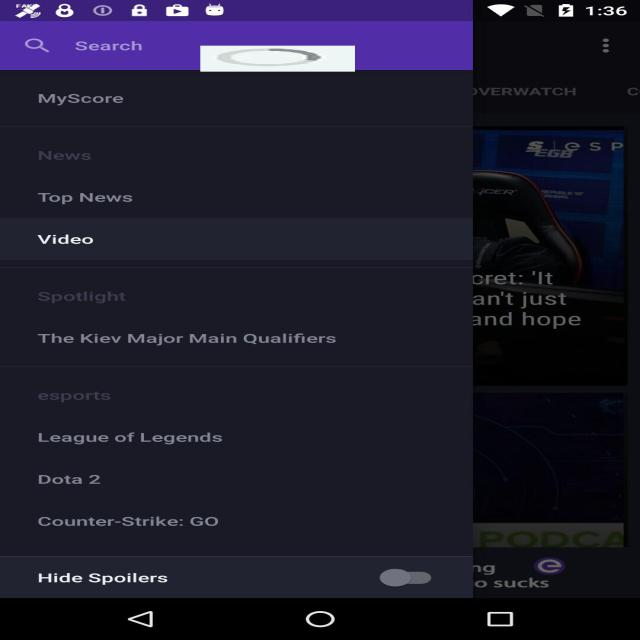misdirection: (200, 46, 355, 72)
